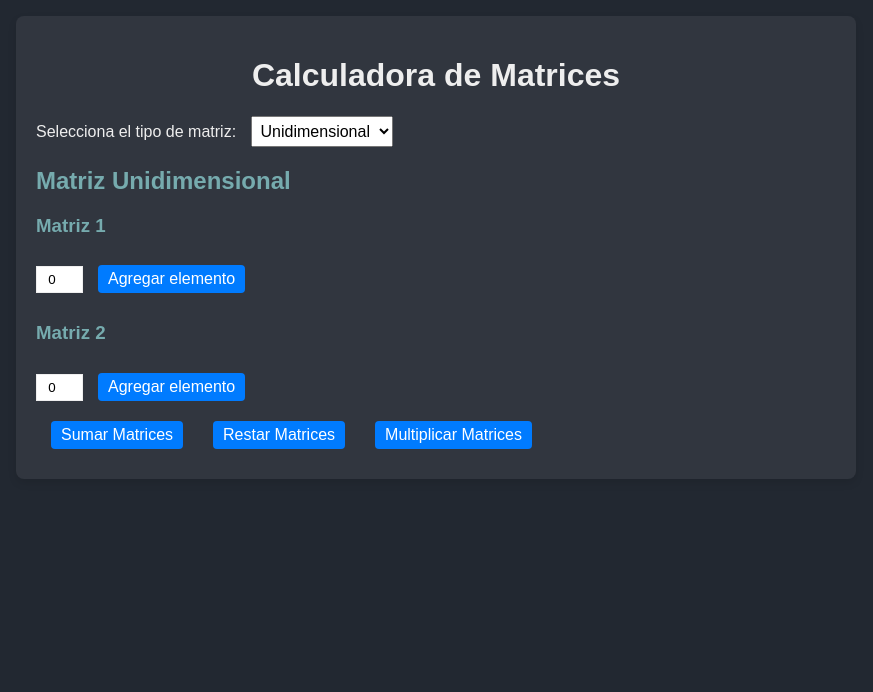
MatrixCalculator Component › should handle matrix multiplication for tridimensional matrices
Note: Cambiamos el tipo de matriz a tridimensional usando el select por su rol de combobox
Select "Tridimensional" in the dropdown at [322, 131], box x1=250 y1=116 x2=392 y2=147
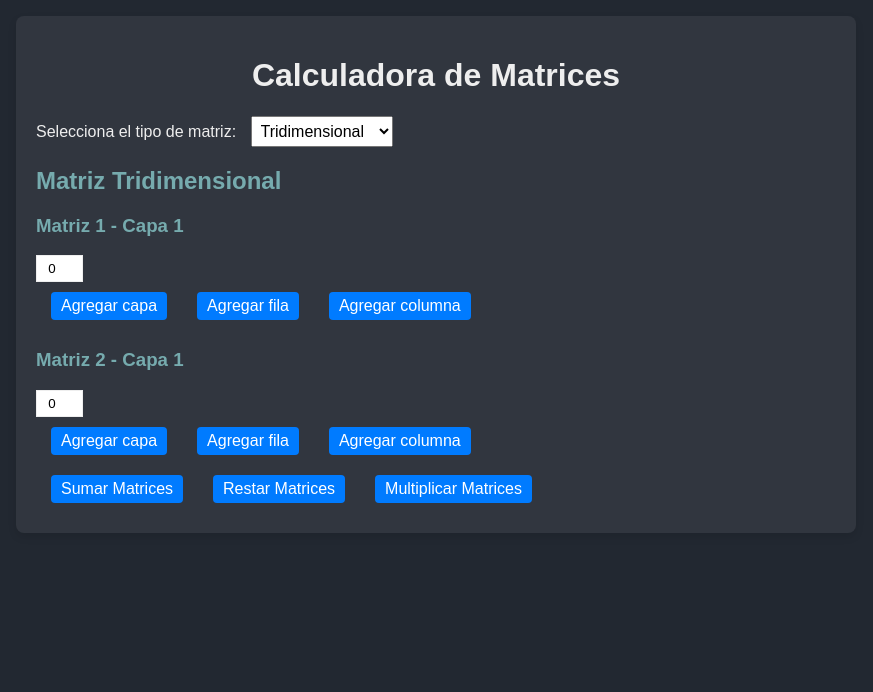
Note: Cambiamos los valores de las matrices
Replace the text in the number field below "Matriz 1 - Capa" with "2" at [60, 269], box x1=36 y1=255 x2=83 y2=282
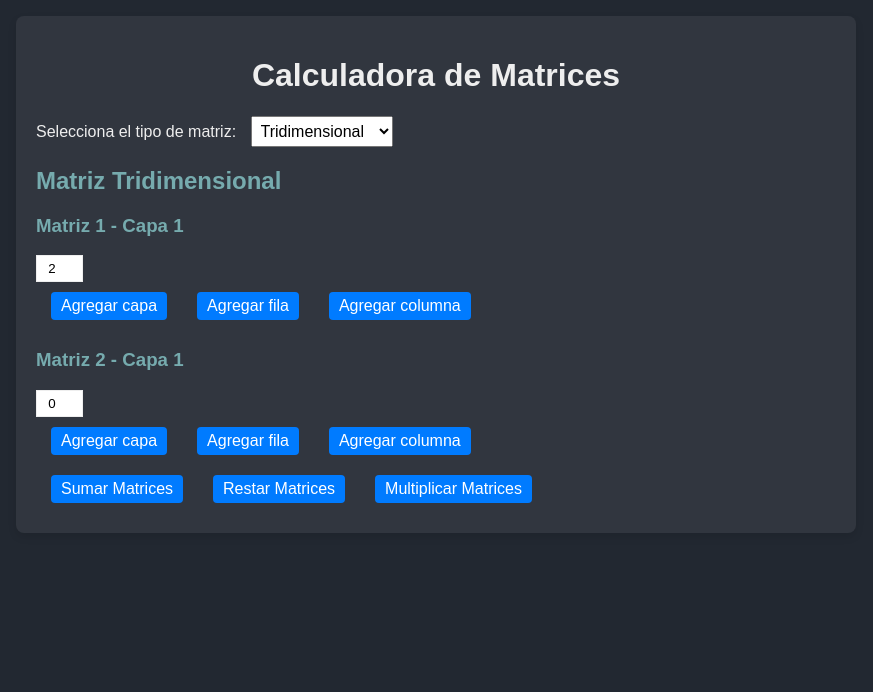
Replace the text in the number field below "Matriz 2 - Capa" with "3" at [60, 403], box x1=36 y1=390 x2=83 y2=417
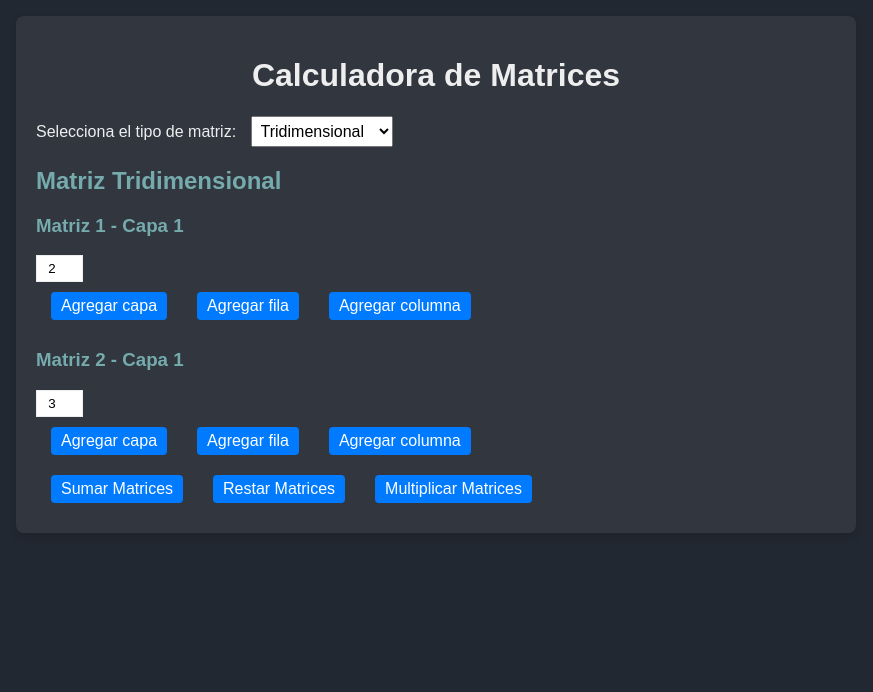
Note: Realizamos la operación de multiplicación
Click the button "Multiplicar Matrices" at [454, 489], box x1=375 y1=475 x2=532 y2=503
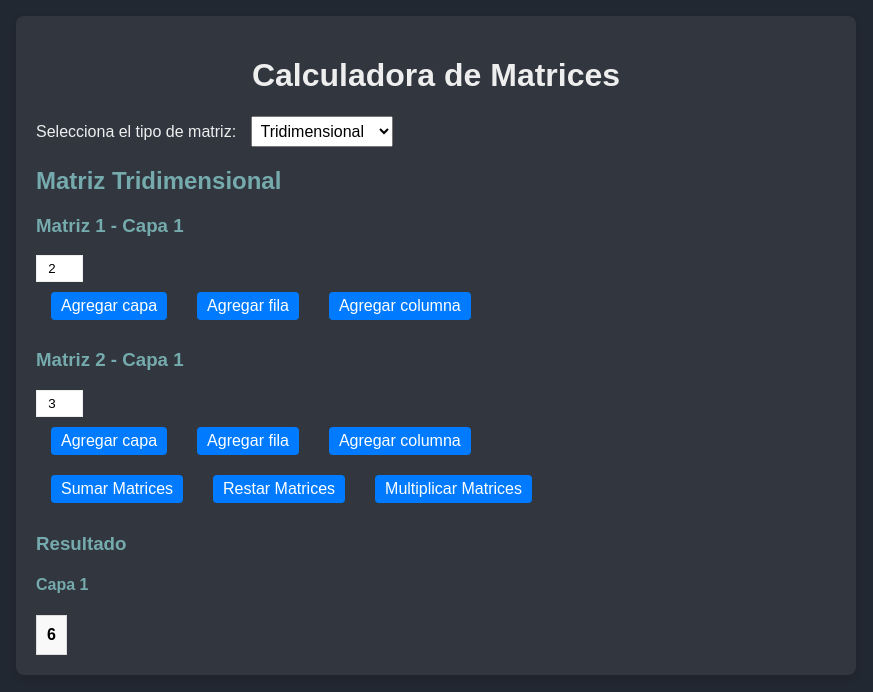
Expected: the text "6" is shown, x1=36 y1=616 x2=66 y2=655
